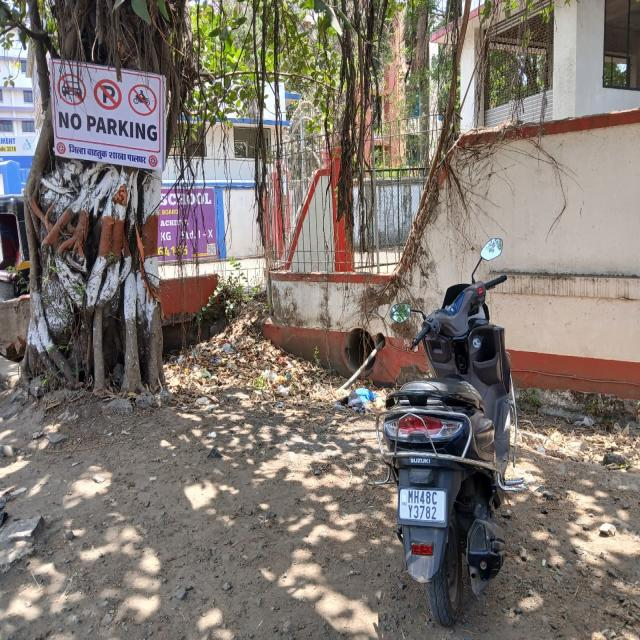illegalparking: (348, 205, 602, 640)
